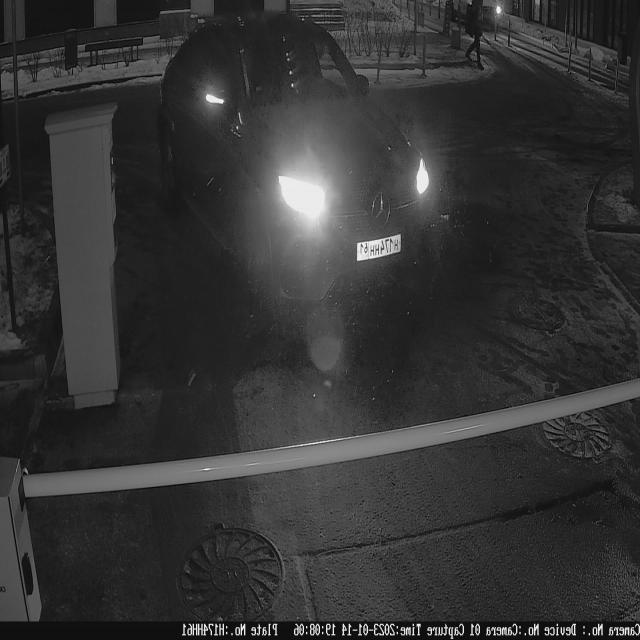car-plate-numbers: (351, 226, 406, 264)
